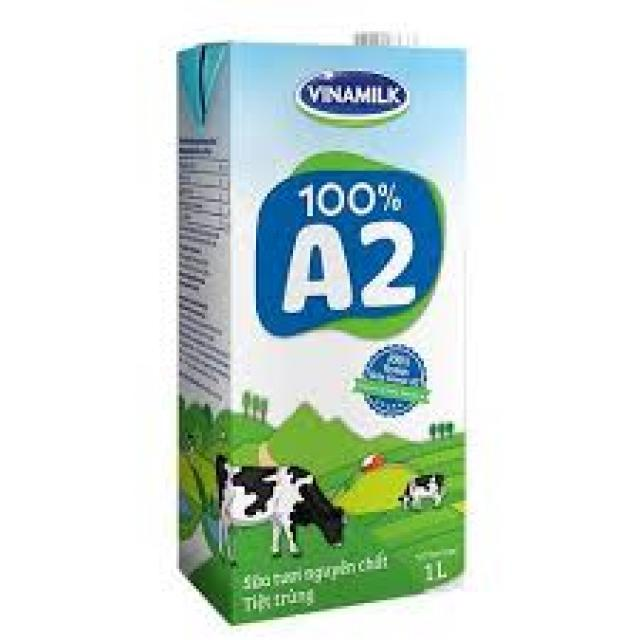non_white_jug: (160, 11, 474, 612)
